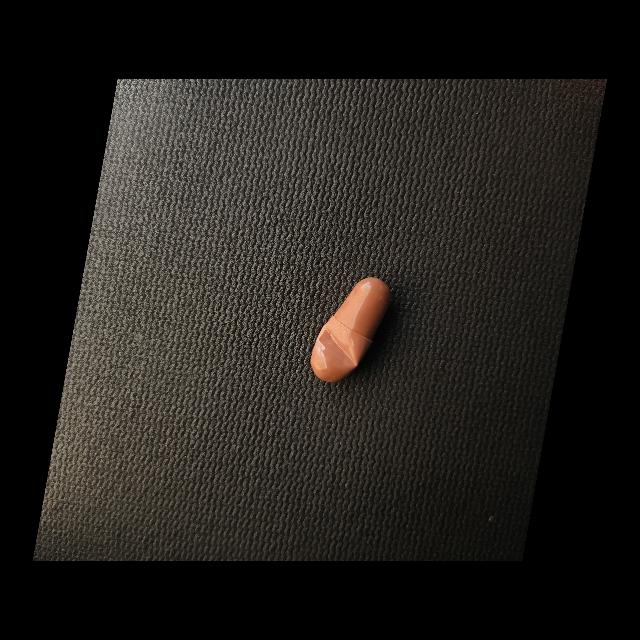Defective Capsule: (318, 328, 358, 370)
